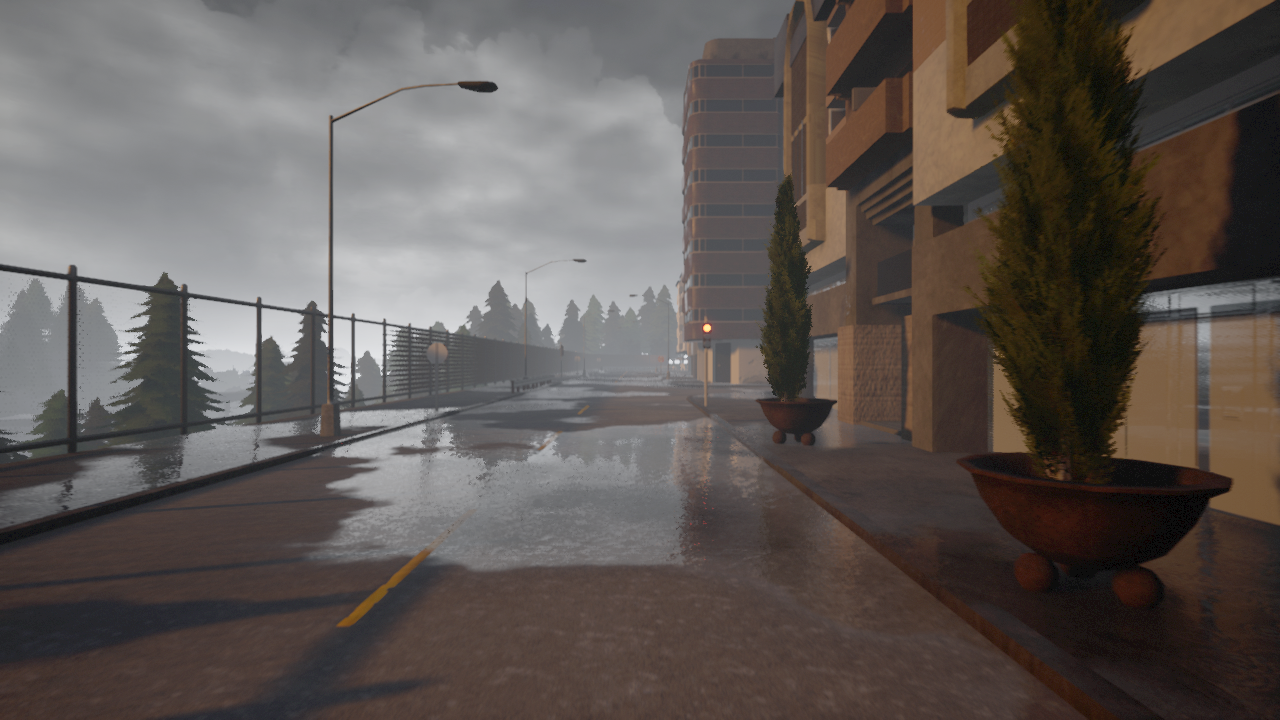red: (702, 322, 711, 349)
